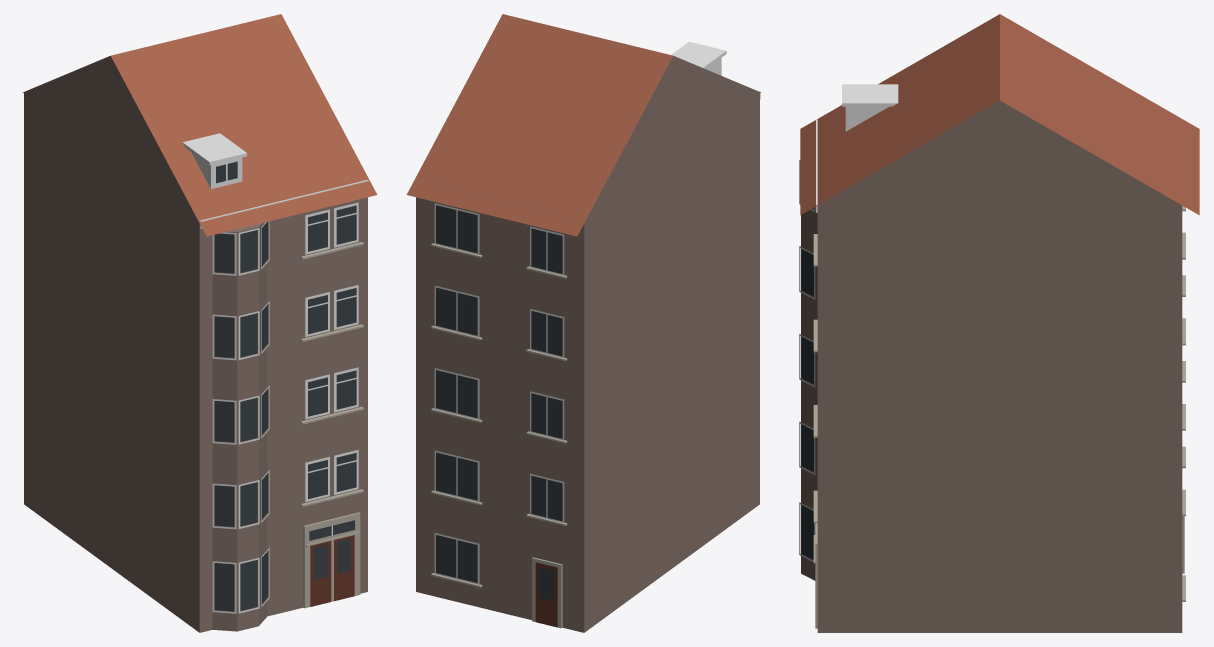
File: we-pk-bay5__brown__5__gable__long__solid__f0d0.glb
The picture shows the model from 3 angles, left to right: view 1: azimuth 30°, elevation 25°; view 2: azimuth 150°, elevation 25°; view 3: azimuth 270°, elevation 25°; orthographic projection. The views are drawn at different scales.
Visible parts, largest first — view 1: we-pk-bay5__brown__5__gable__long__solid__f0d0; view 2: we-pk-bay5__brown__5__gable__long__solid__f0d0; view 3: we-pk-bay5__brown__5__gable__long__solid__f0d0.
Part boxes in pixels (left/top/right/bottom): we-pk-bay5__brown__5__gable__long__solid__f0d0: left=23, top=14, right=377, bottom=632; we-pk-bay5__brown__5__gable__long__solid__f0d0: left=406, top=14, right=760, bottom=632; we-pk-bay5__brown__5__gable__long__solid__f0d0: left=799, top=14, right=1199, bottom=632.
Size of the model in its own units: 6.56 by 18.84 by 12.85.
